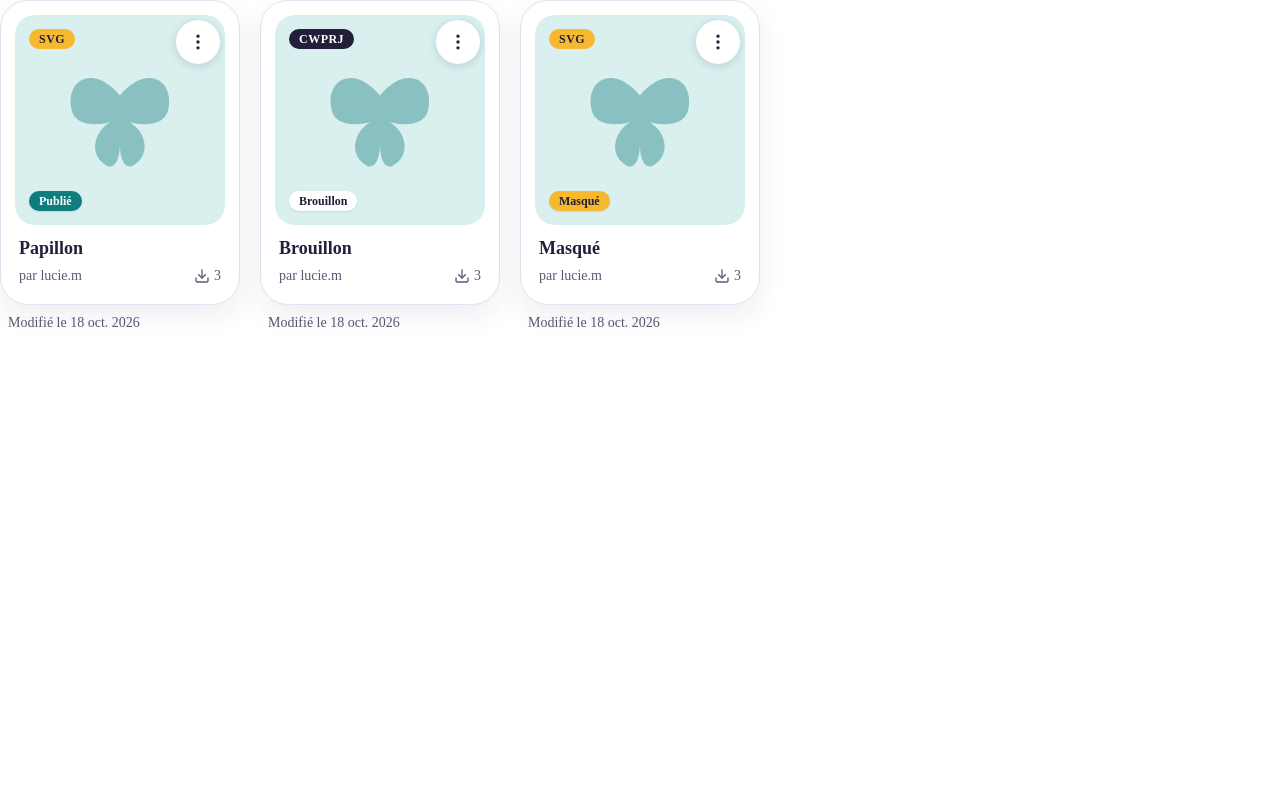
MyModels › annuler ferme la confirmation
Step 1. Click the button named "Actions pour « Papillon »" → (198, 42), box [176,20,220,64]
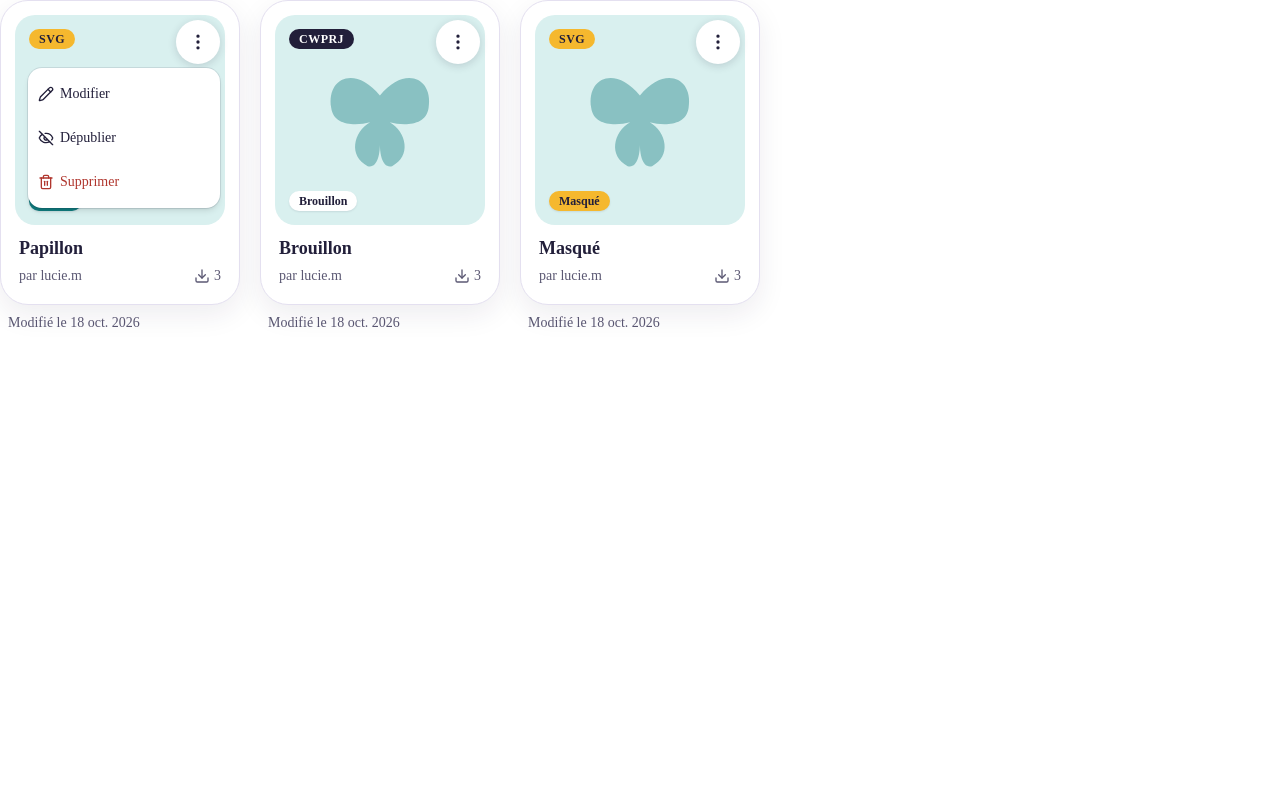
Step 2. Click the menu item "Supprimer" → (79, 182), box [38,174,119,190]
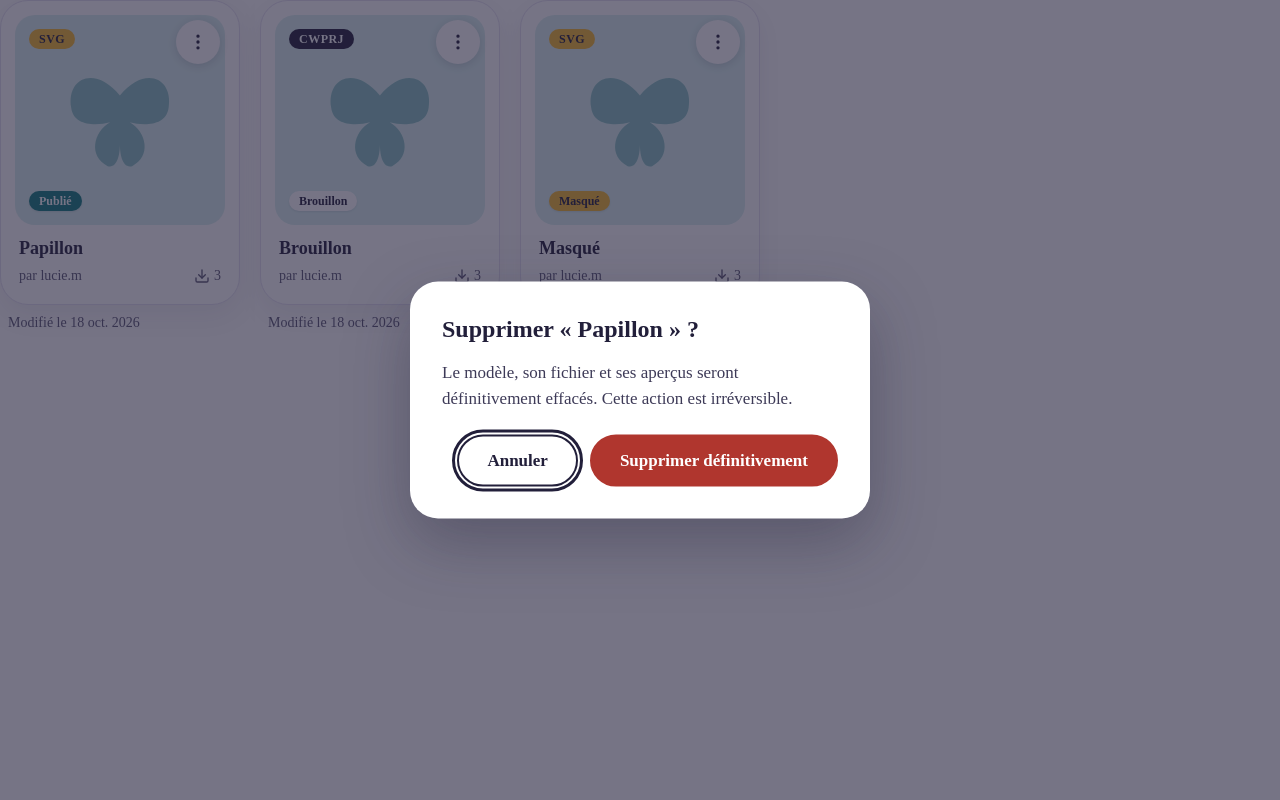
Step 3. Click the button "Annuler" → (518, 460), box [457,434,578,486]
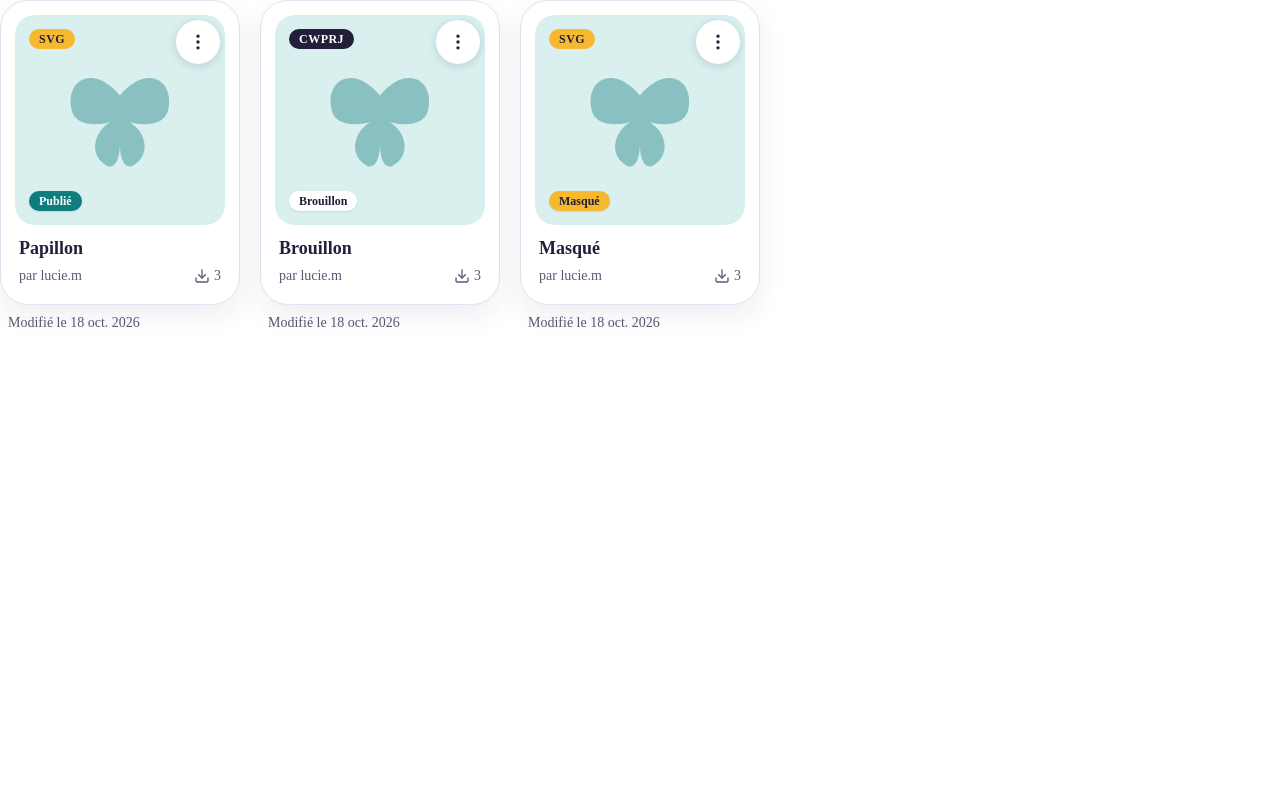
Expected: the dialog is gone
